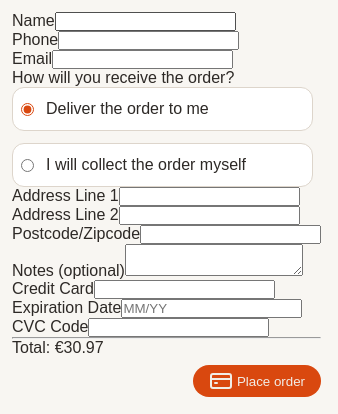
Test: CheckoutForm › displays the fallback checkout error when the API does not return a message
The image size is (338, 414).
Type "Kerry Ann" into the field labelled "Name" at (145, 22), box 55,12 -> 236,31
Type "0871234567" into the field labelled "Phone" at (149, 40), box 58,31 -> 239,50
Type "kerry@example.com" into the field labelled "Email" at (142, 60), box 52,50 -> 233,69
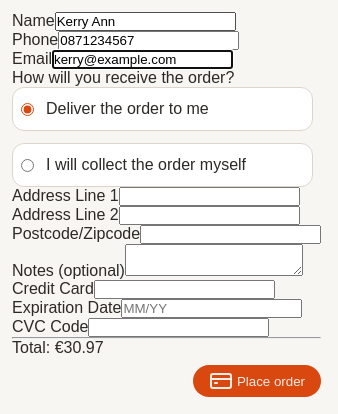
Click the radio button with test id "fulfilment-fields-radio-collection" at (28, 165), box 21,158 -> 34,172
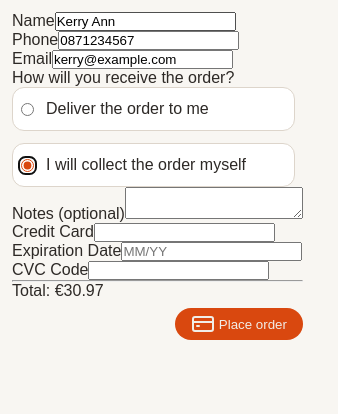
Check: the radio button with test id "fulfilment-fields-radio-delivery" is shown, box 21,102 -> 34,116
Type "4242424242424242" into the field labelled "Credit Card" at (184, 232), box 94,223 -> 275,242
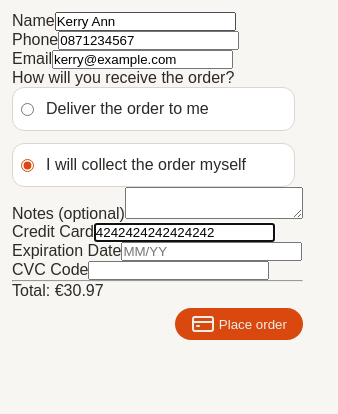
Type "12/30" into the field labelled "Expiration Date" at (212, 252), box 121,242 -> 302,261
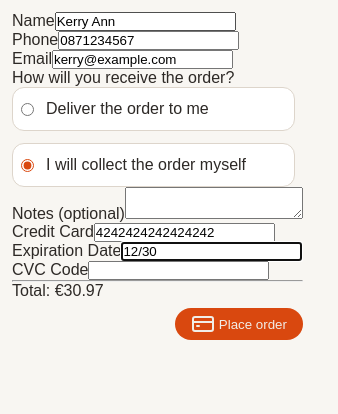
Type "123" into the field labelled "CVC Code" at (179, 270), box 88,261 -> 270,280
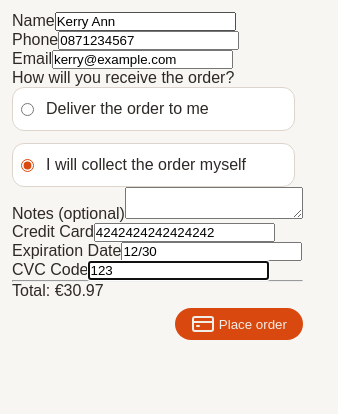
Click the button "Place order" at (239, 324), box 175,308 -> 303,340
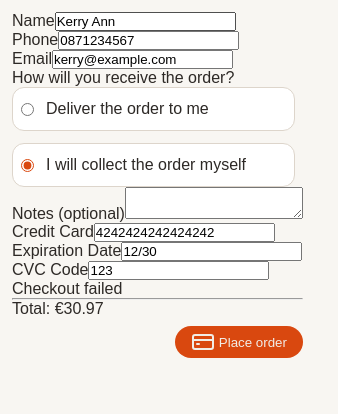
Check: the message reads "Checkout failed", box 12,280 -> 122,297
